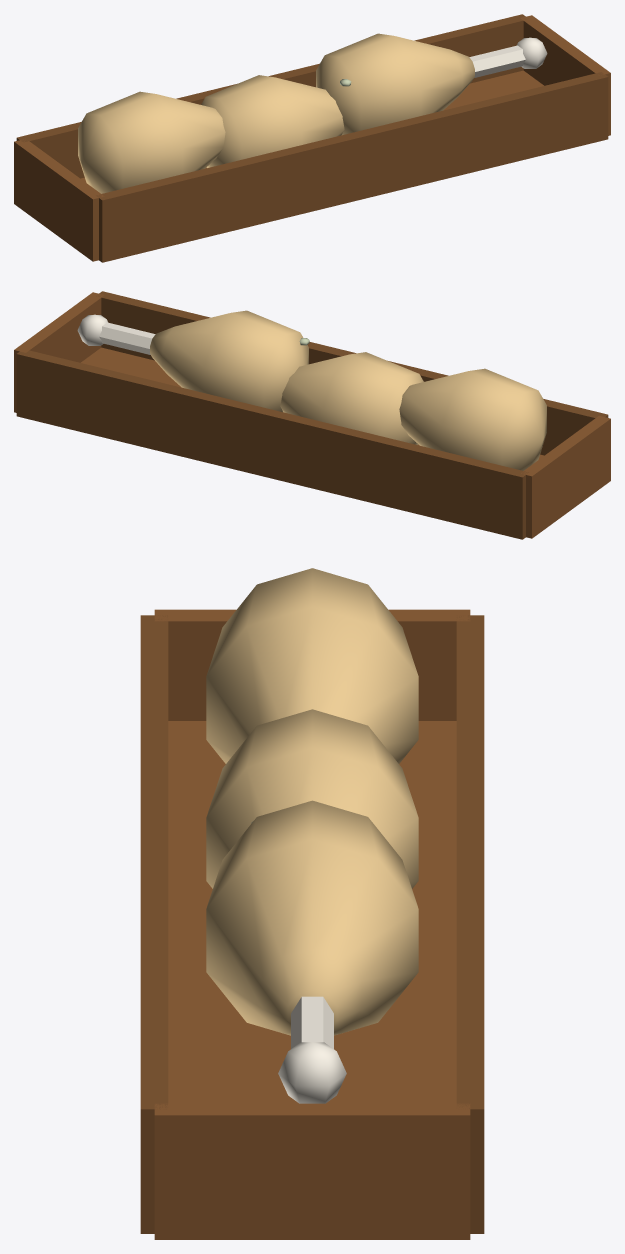
The model's file is Meat_Goose.fbx.
3 renders of one model, top to bottom at view 1: azimuth 30°, elevation 25°; view 2: azimuth 150°, elevation 25°; view 3: azimuth 270°, elevation 25°, orthographic. The views are drawn at different scales.
Parts seen in each view (by area): view 1: Meat_Goose__Stack, Meat_Goose; view 2: Meat_Goose__Stack, Meat_Goose; view 3: Meat_Goose__Stack, Meat_Goose.
Part boxes in pixels (x1=…): Meat_Goose__Stack: x1=14, y1=14, x2=610, y2=262; Meat_Goose: x1=201, y1=75, x2=344, y2=167; Meat_Goose__Stack: x1=14, y1=291, x2=610, y2=539; Meat_Goose: x1=280, y1=352, x2=423, y2=444; Meat_Goose__Stack: x1=140, y1=568, x2=484, y2=1239; Meat_Goose: x1=206, y1=709, x2=418, y2=888.
Size of the model in its own units: 0.3478 by 0.073 by 0.0998.
